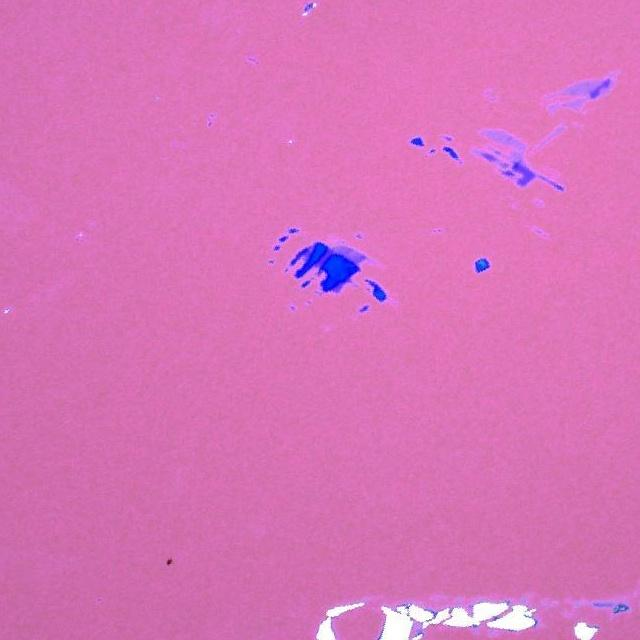monolayer-eWW4: (480, 128, 528, 156), (536, 124, 566, 154), (559, 76, 600, 95), (564, 96, 588, 112)
